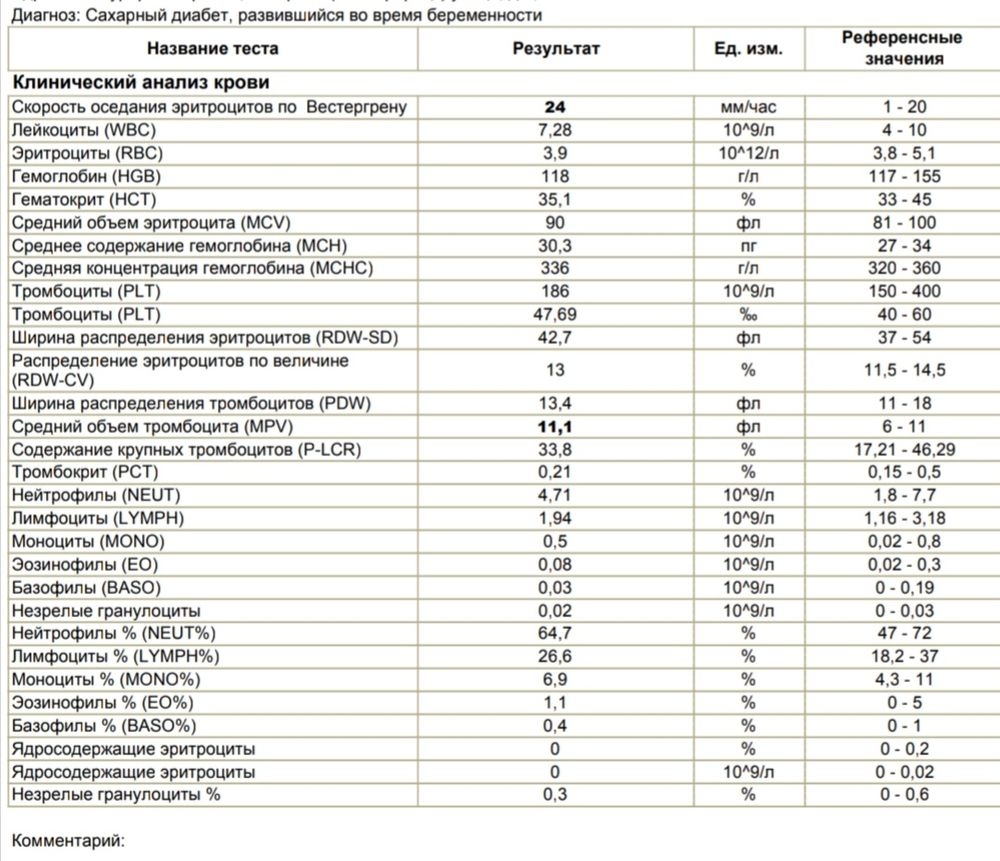column: (11, 96, 408, 806), (853, 96, 956, 806), (718, 96, 780, 806), (533, 96, 577, 806), (147, 30, 279, 65), (841, 30, 963, 65), (512, 30, 600, 65), (714, 30, 783, 65)
